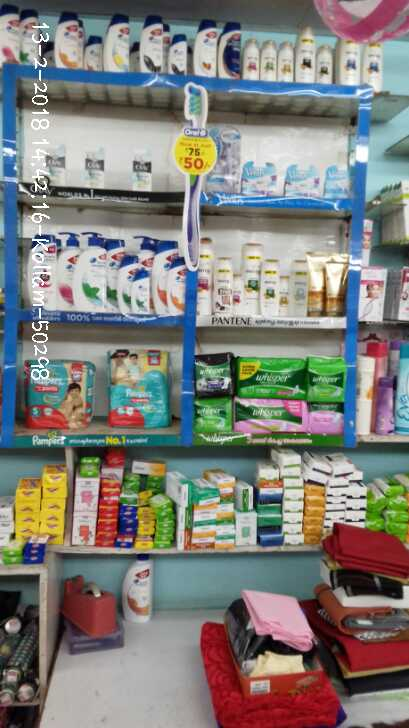venus: (210, 123, 238, 195), (242, 162, 280, 195), (285, 162, 318, 193), (323, 164, 350, 195)
